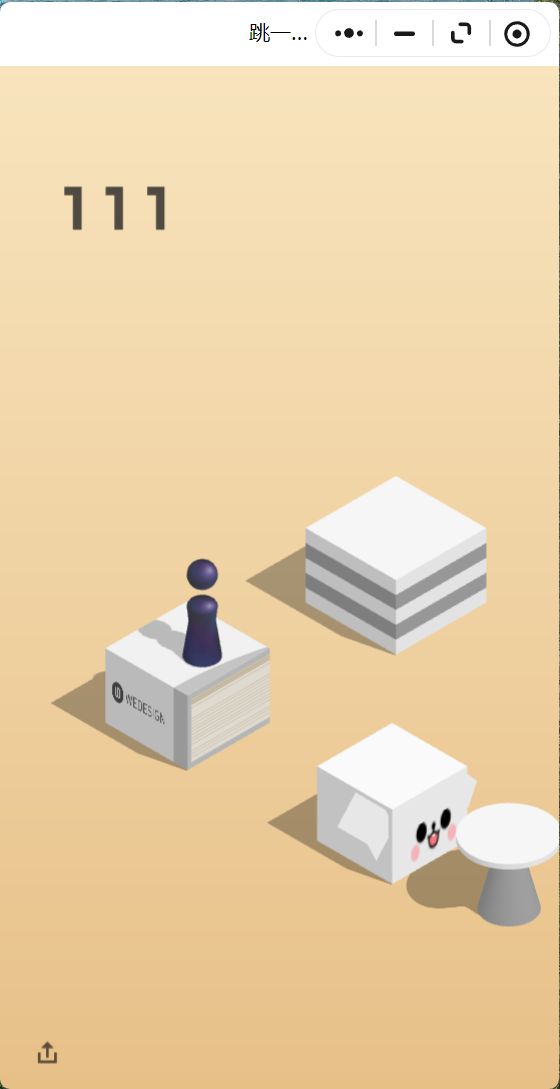piece: (187, 558, 217, 663)
target: (306, 477, 486, 579)
